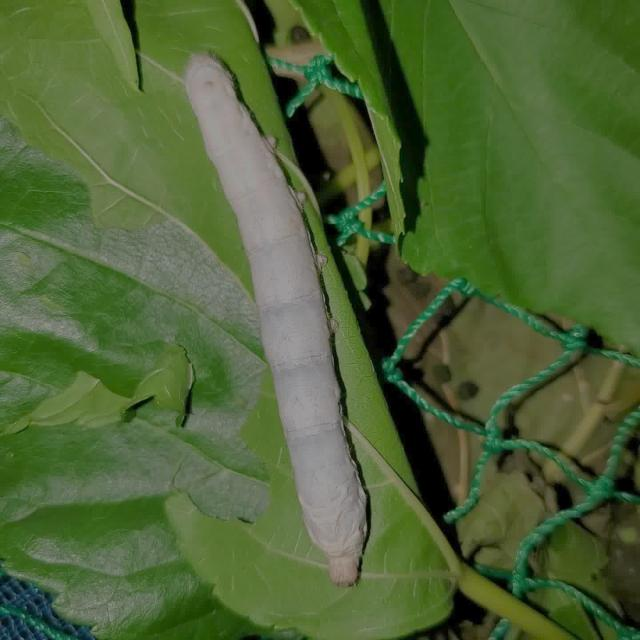Healthy: (172, 48, 377, 600)
